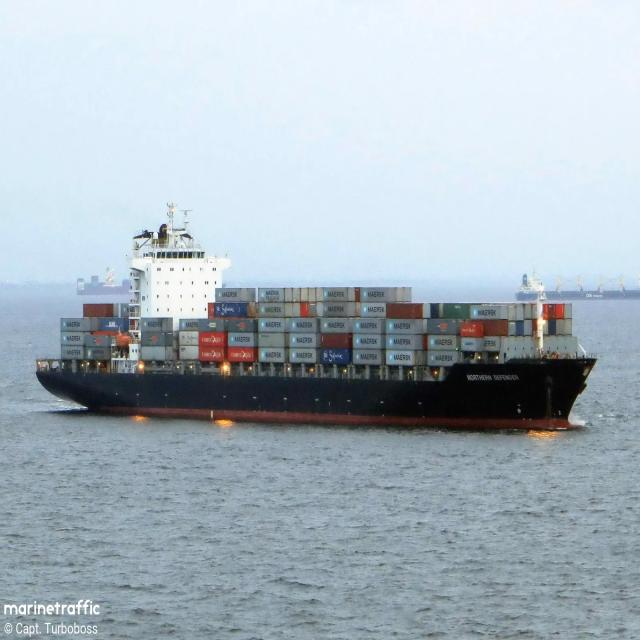Cargo: (37, 205, 597, 430)
